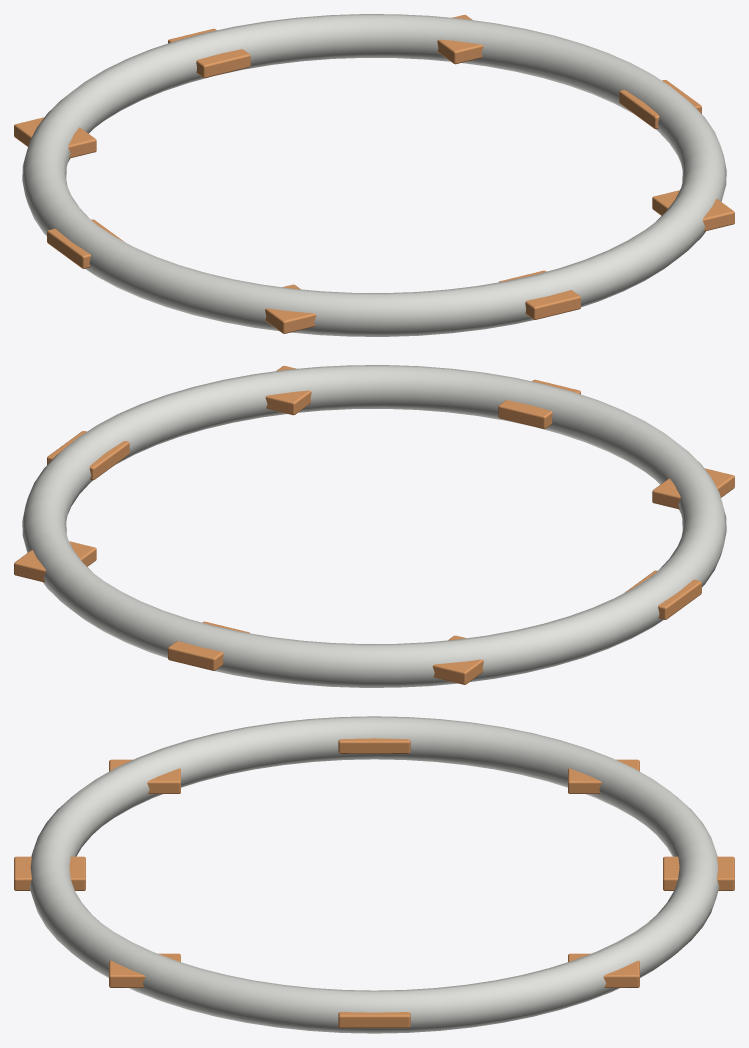
The model's file is spacecraft-parachute-packing-hall-spacecraft-parachute-a34d03a6__32114.glb.
3 views of the same model, one above another, from view 1: azimuth 30°, elevation 25°; view 2: azimuth 150°, elevation 25°; view 3: azimuth 270°, elevation 25° (orthographic).
Visible parts, largest first — view 1: spacecraft-parachute-packing-hall-canopy-vent-hoop; view 2: spacecraft-parachute-packing-hall-canopy-vent-hoop; view 3: spacecraft-parachute-packing-hall-canopy-vent-hoop.
Part boxes in pixels (x1,y1,x2,y2): spacecraft-parachute-packing-hall-canopy-vent-hoop: (14,14,734,336); spacecraft-parachute-packing-hall-canopy-vent-hoop: (14,365,734,687); spacecraft-parachute-packing-hall-canopy-vent-hoop: (14,716,734,1033).
Size of the model in its own units: 0.585 by 0.036 by 0.6.
